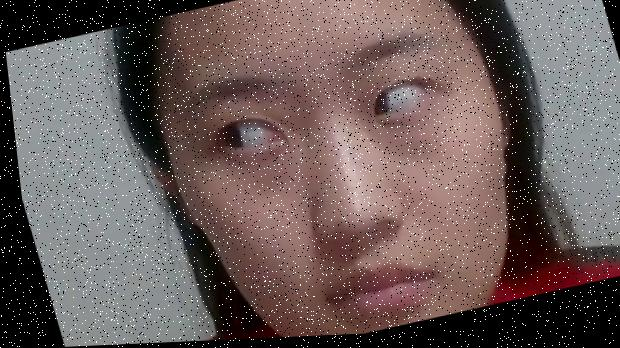eye: (205, 123, 244, 161), (356, 90, 389, 125)
iris: (211, 113, 284, 159), (364, 80, 430, 123)
